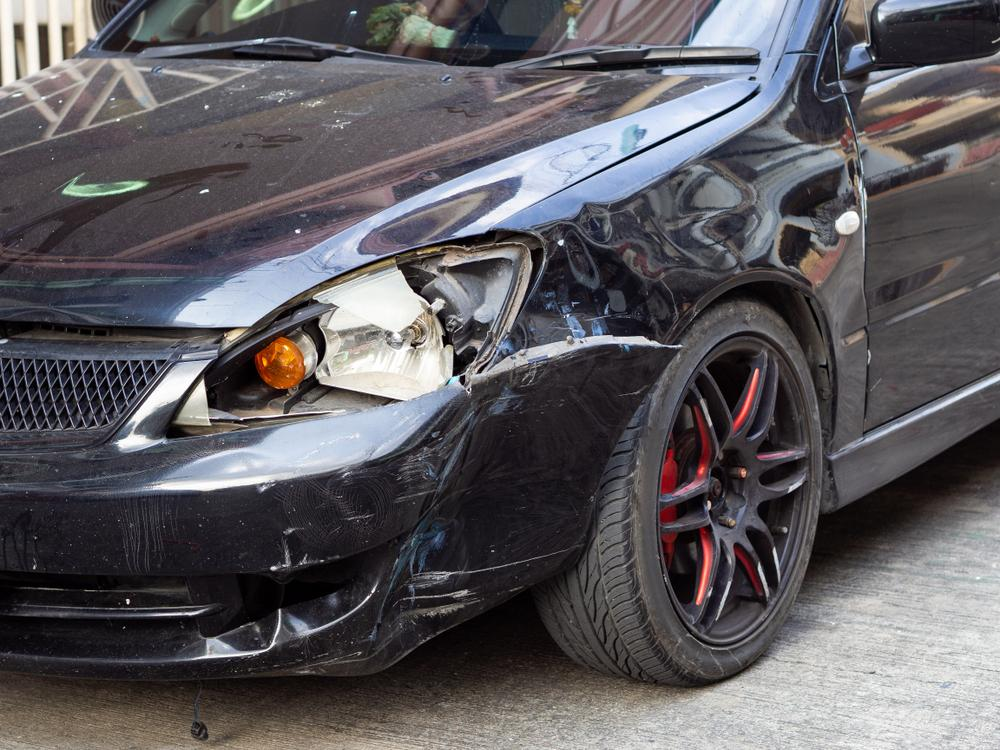dent: (503, 127, 850, 355), (371, 418, 587, 660)
lamp broken: (170, 241, 534, 436)
scratch: (261, 406, 468, 571)
